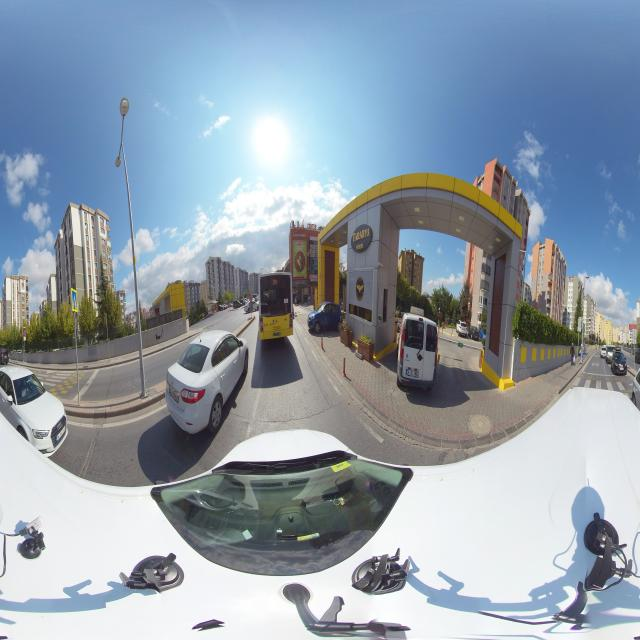SignStore: (293, 280, 306, 286)
